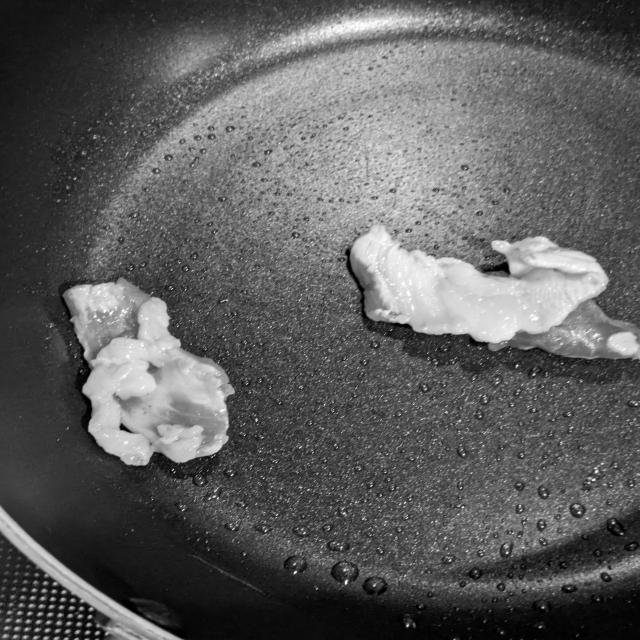NG undercooked pork,: (335, 217, 640, 383), (45, 274, 239, 474)
